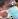with_mask: (1, 2, 18, 19)
